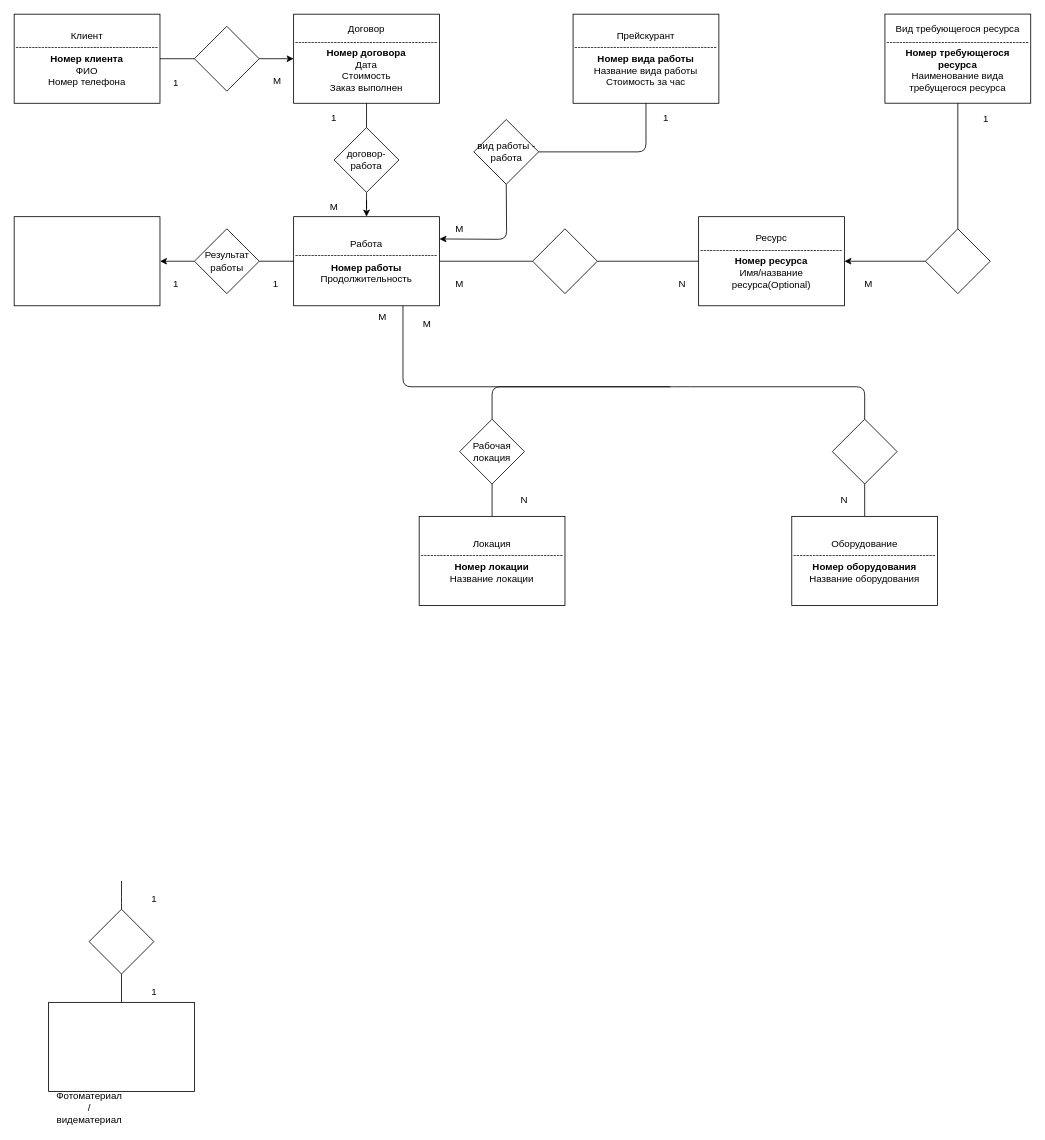
This 1045x1140 diagram has some shape labels left out. The box of each missing label's shape, as (x1, y1, x2, y2) in pixels:
используемый ресурс: (532, 228, 597, 294)
клиент-договор: (194, 26, 259, 91)
Результат -------------------------------------------- Работа выполнена: (13, 216, 160, 306)
ресурс конкретного вида: (925, 228, 990, 294)
Тип выходного материала --------------------------------------------: (48, 1002, 194, 1091)
требующееся оборудование: (831, 418, 897, 484)
